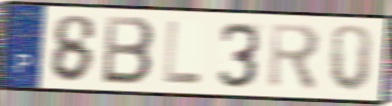0: (328, 23, 375, 95)
3: (217, 20, 263, 90)
8: (50, 12, 99, 84)
B: (100, 13, 157, 87)
L: (161, 18, 204, 87)
R: (266, 20, 324, 93)
